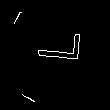L_W: (28, 37, 82, 73)
